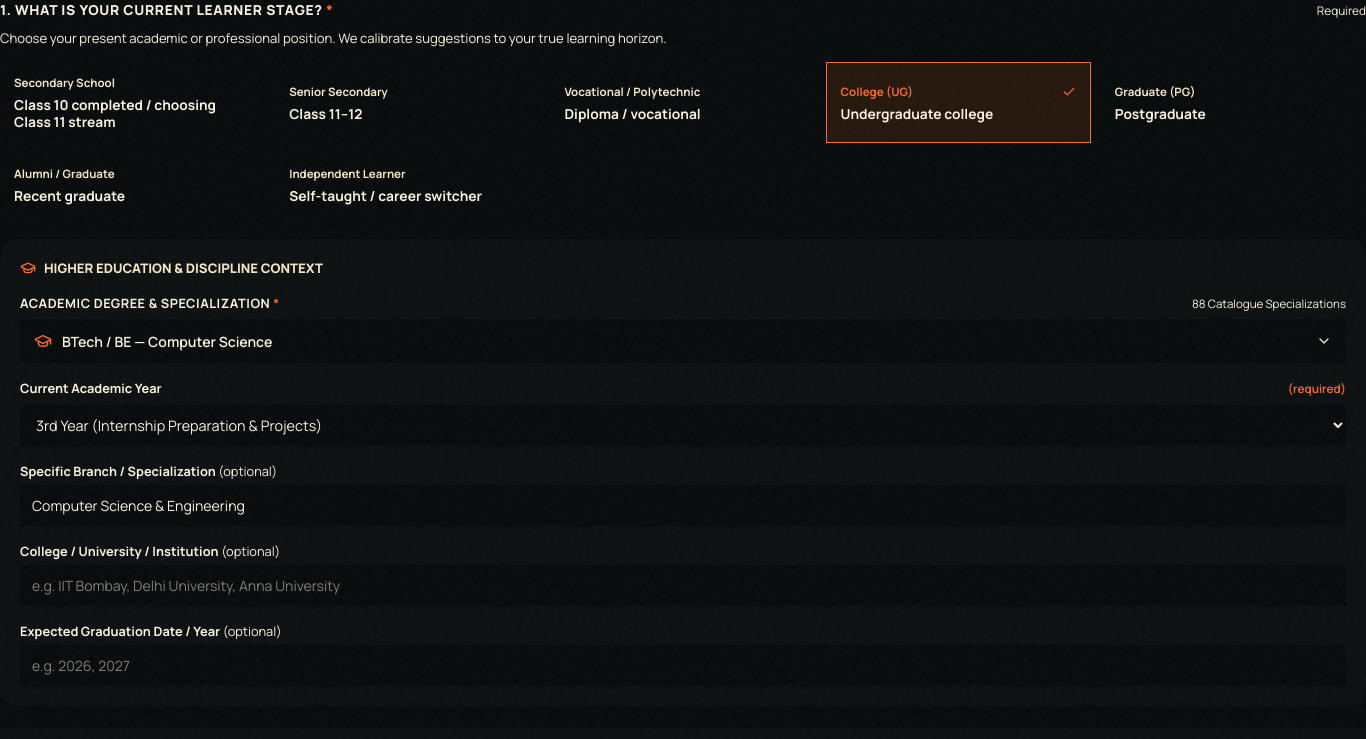
Test case: Prompt 4 — Degree, Specialization & Unified Skill Catalogue › D. UI Behavior in LearnerContextIntake › opens dropdown, supports search, and filters degree entries
Click the dropdown named "Academic Degree & Specialization" at (167, 341), box [20,319,1346,363]
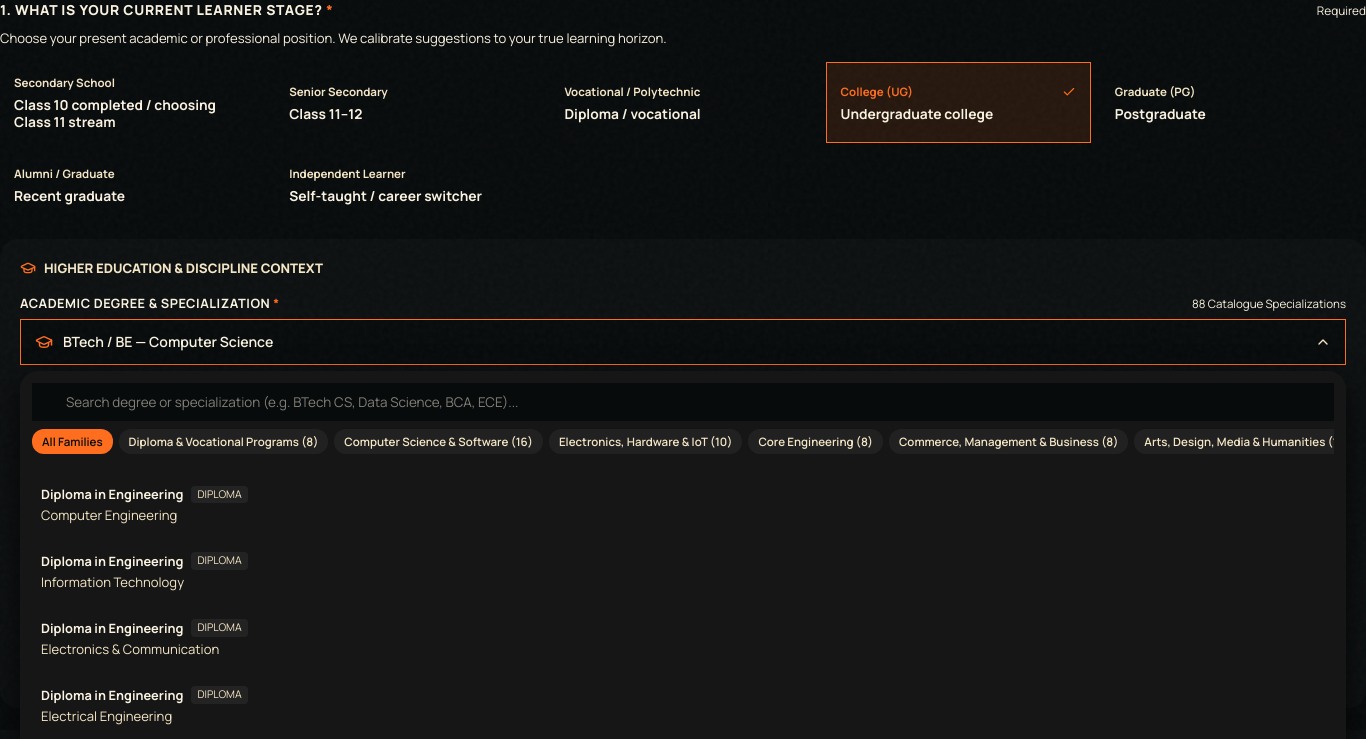
Result: the field with placeholder "Search degree or specialization" is shown
// Search for Data Science
Replace the text in the field with placeholder "Search degree or specialization" with "Data Science" at (683, 402), box [32,382,1334,421]
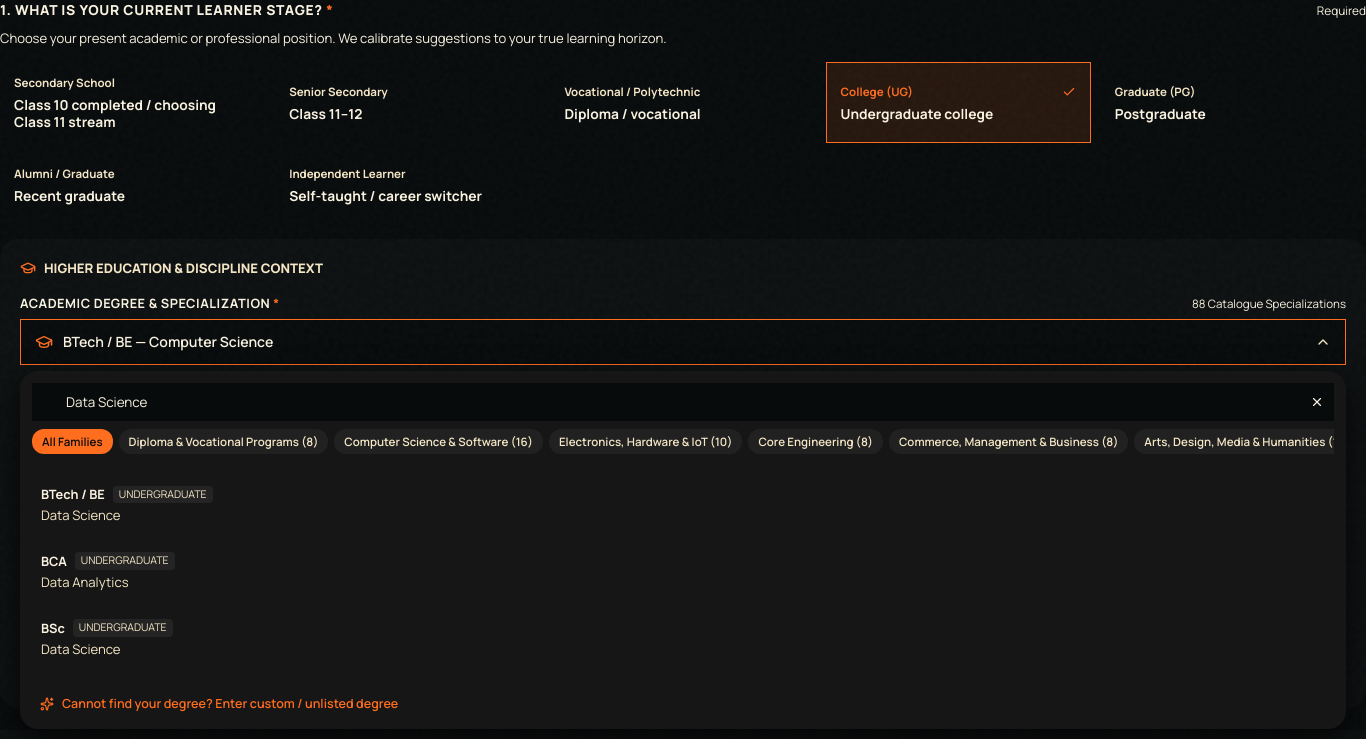
Result: the 1st text "Data Science" is shown at [41,506,120,524]
Result: the text "BTech / BE" is shown at [41,485,105,504]
Result: the text "BSc" is shown at [41,619,65,638]
